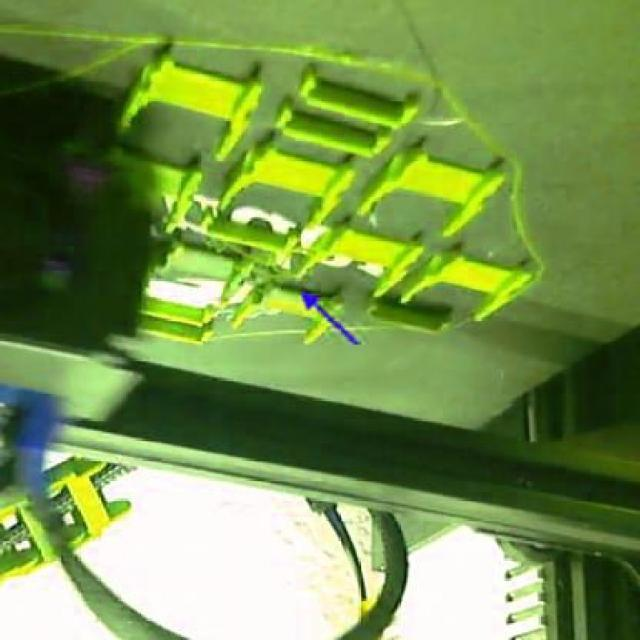spaghetti: (203, 238, 292, 297)
